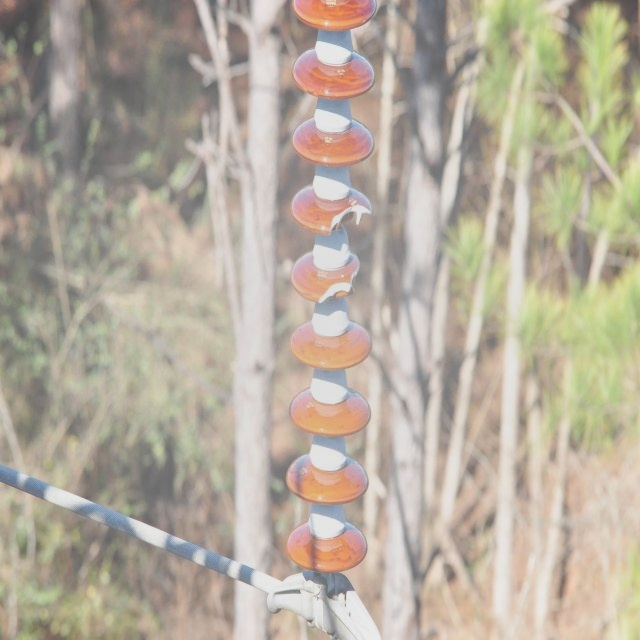broken: (315, 252, 361, 306), (328, 203, 372, 235)
insulator: (283, 0, 376, 573)
